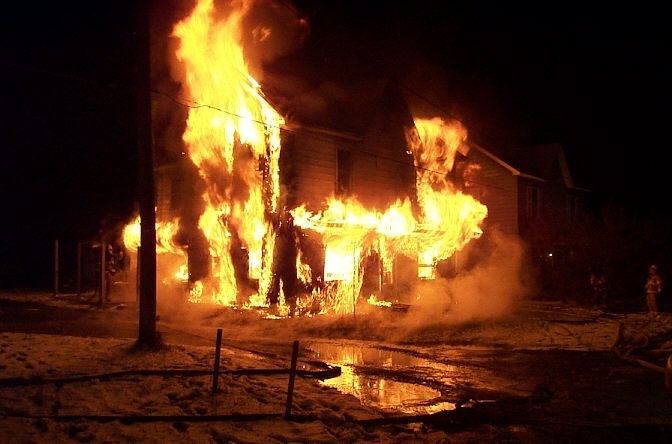fire: (81, 0, 504, 327)
